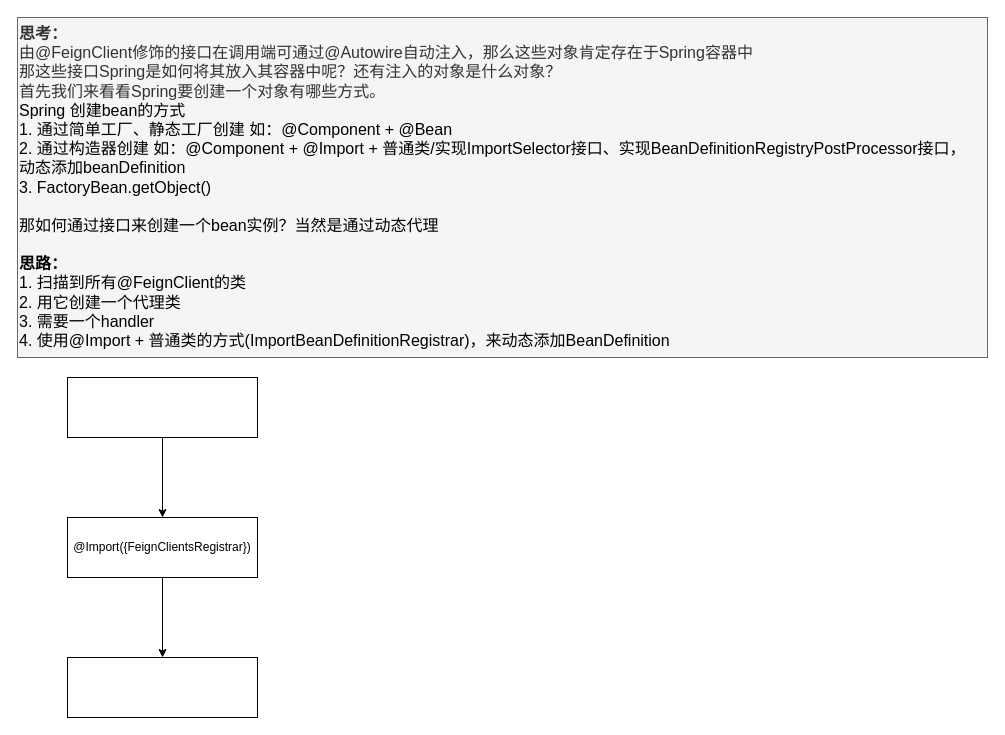
The diagram is 1005 pixels wide and 735 high, and some of its shapes have lost their labels. The shapes that lost their labels are listed below. From the top down, each one's box as (x1, y1, x2, y2) in pixels, then its label:
(66, 376, 258, 438): @EnableFeignClient
(66, 656, 258, 718): 返回
